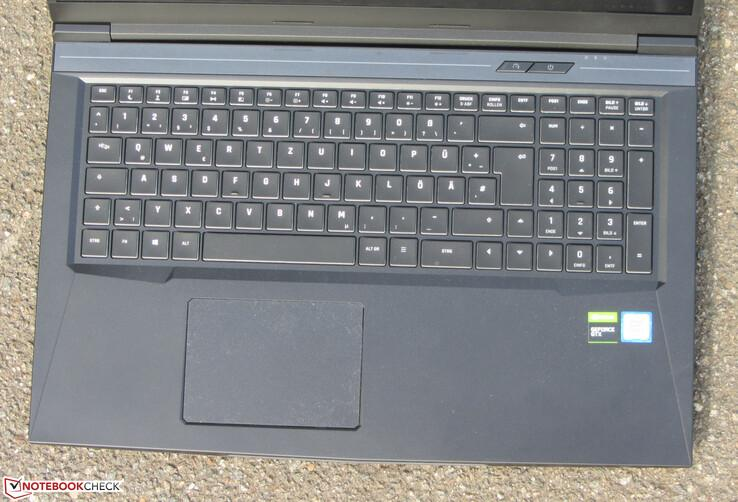0: (385, 112, 413, 140)
1: (110, 103, 137, 130)
2: (139, 104, 167, 131)
3: (169, 104, 197, 132)
4: (200, 105, 227, 132)
5: (230, 106, 258, 133)
6: (261, 107, 289, 134)
7: (291, 107, 319, 136)
8: (322, 108, 350, 137)
9: (352, 109, 381, 137)
a: (129, 165, 156, 193)
accent: (445, 111, 473, 139)
ae: (435, 173, 464, 201)
alt-left: (170, 228, 198, 258)
altgr-right: (356, 233, 385, 264)
b: (264, 199, 293, 227)
c: (203, 197, 231, 226)
caret: (87, 103, 107, 130)
comma: (356, 202, 384, 230)
d: (189, 166, 217, 194)
del: (476, 112, 533, 140)
e: (183, 135, 211, 163)
enter: (490, 142, 533, 204)
f: (220, 167, 247, 195)
g: (250, 168, 278, 196)
h: (281, 168, 309, 197)
hash: (466, 173, 494, 202)
i: (336, 139, 364, 167)
j: (311, 169, 339, 198)
k: (342, 170, 371, 199)
keyboard: (65, 73, 670, 280)
l: (373, 171, 401, 199)
less: (112, 195, 140, 223)
m: (325, 200, 354, 230)
minus: (418, 203, 447, 232)
n: (294, 200, 323, 229)
o: (367, 140, 395, 168)
oe: (404, 172, 432, 200)
p: (398, 141, 426, 169)
plus: (459, 142, 488, 171)
point: (387, 203, 416, 231)
q: (122, 134, 151, 162)
r: (213, 136, 242, 164)
s: (159, 165, 186, 194)
shift-left: (81, 195, 109, 223)
shift-lock: (83, 164, 126, 192)
shift-right: (450, 204, 502, 234)
space: (201, 230, 354, 262)
ss: (416, 113, 444, 141)
strg-left: (78, 225, 108, 256)
strg-right: (418, 236, 473, 266)
t: (244, 136, 271, 164)
tab: (85, 133, 120, 161)
u: (305, 138, 334, 167)
ue: (428, 141, 457, 170)
v: (233, 198, 262, 226)
w: (153, 134, 180, 163)
x: (173, 196, 200, 225)
y: (142, 196, 170, 224)
z: (275, 137, 303, 166)
